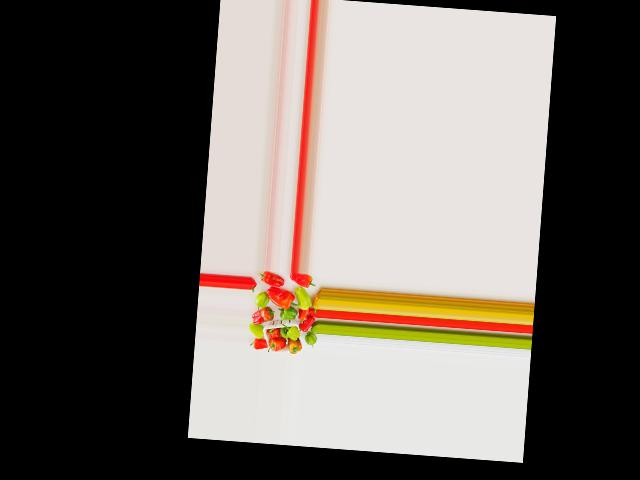bell_pepper: (292, 272, 317, 290)
